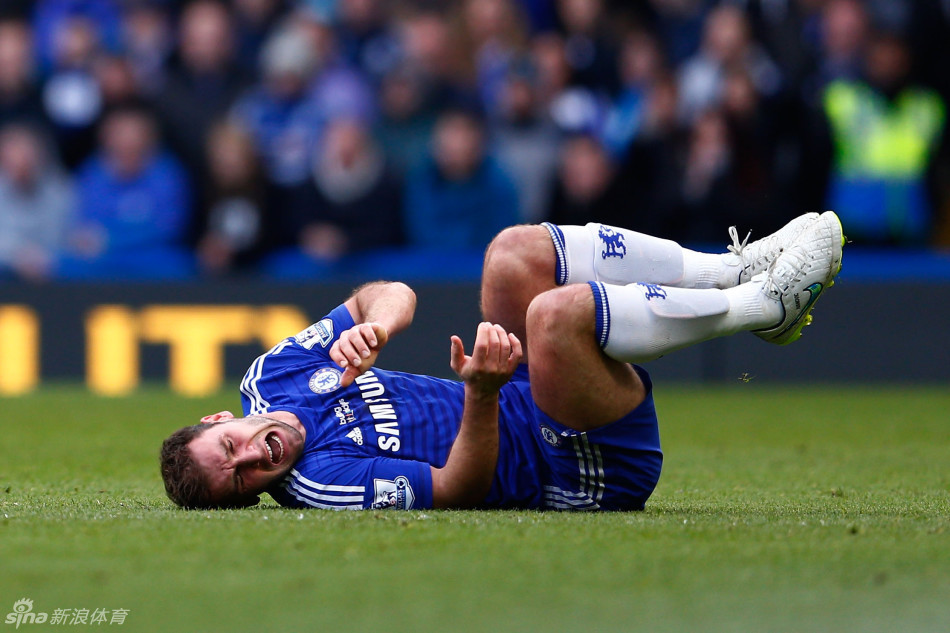10+: (1, 4, 941, 541)
down: (148, 182, 849, 518)
